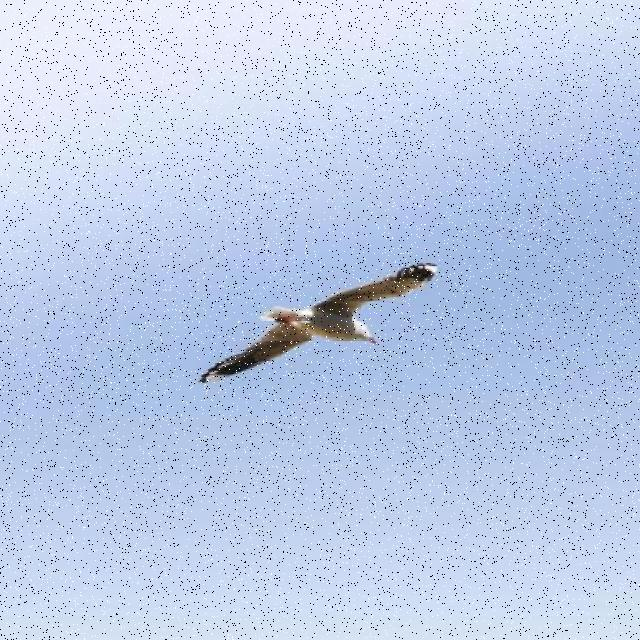bird: (198, 262, 438, 384)
